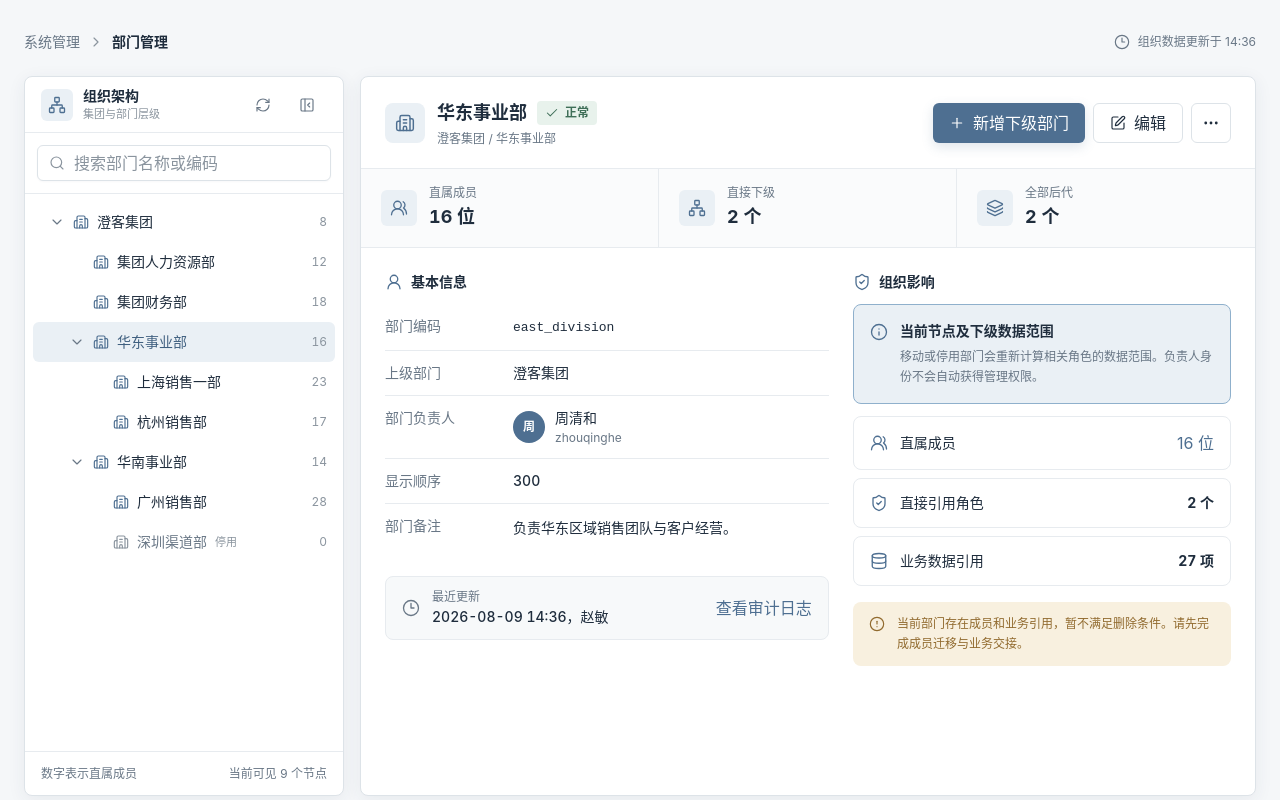
Test: DepartmentManagementPrototype › shows a server-style impact summary before moving a department
Click the button named "更多部门操作".
click(1211, 122)  # box [1191,102,1231,142]
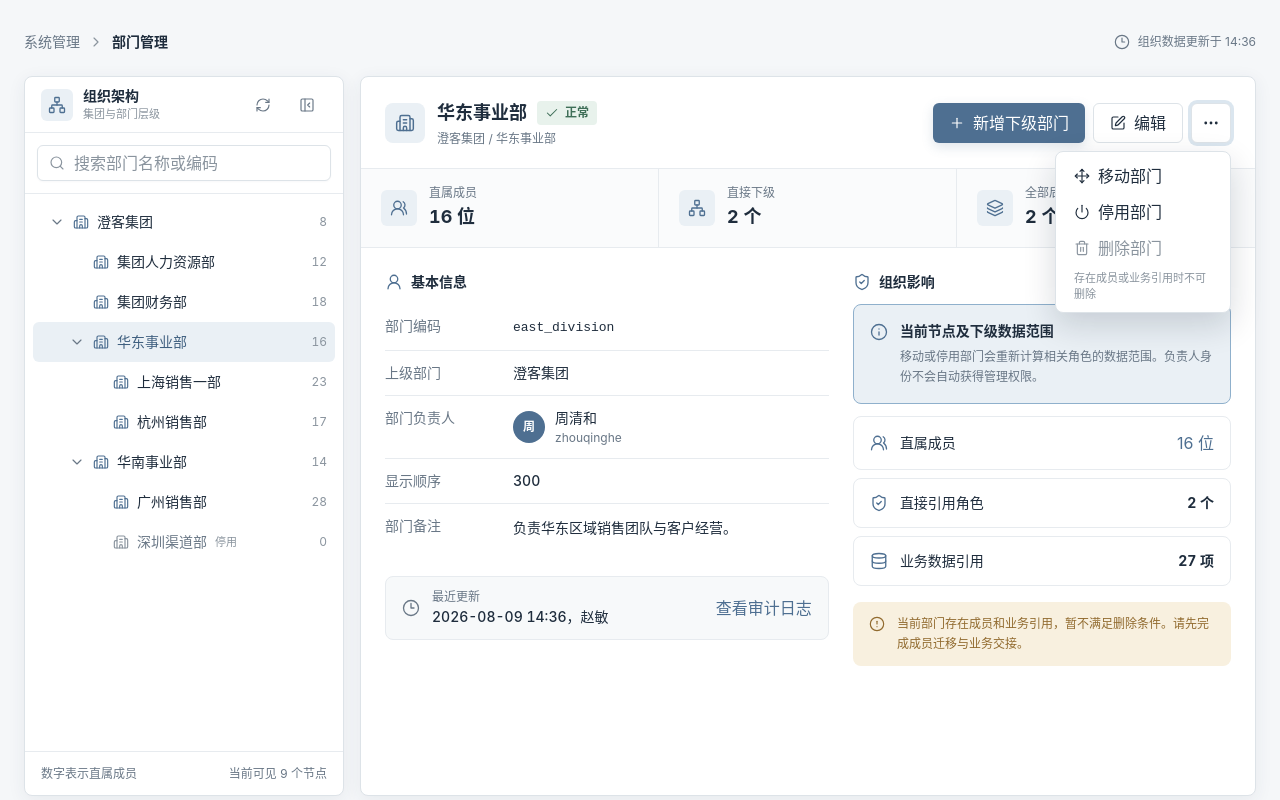
Click the menu item "移动部门".
click(1143, 176)  # box [1062,158,1224,194]
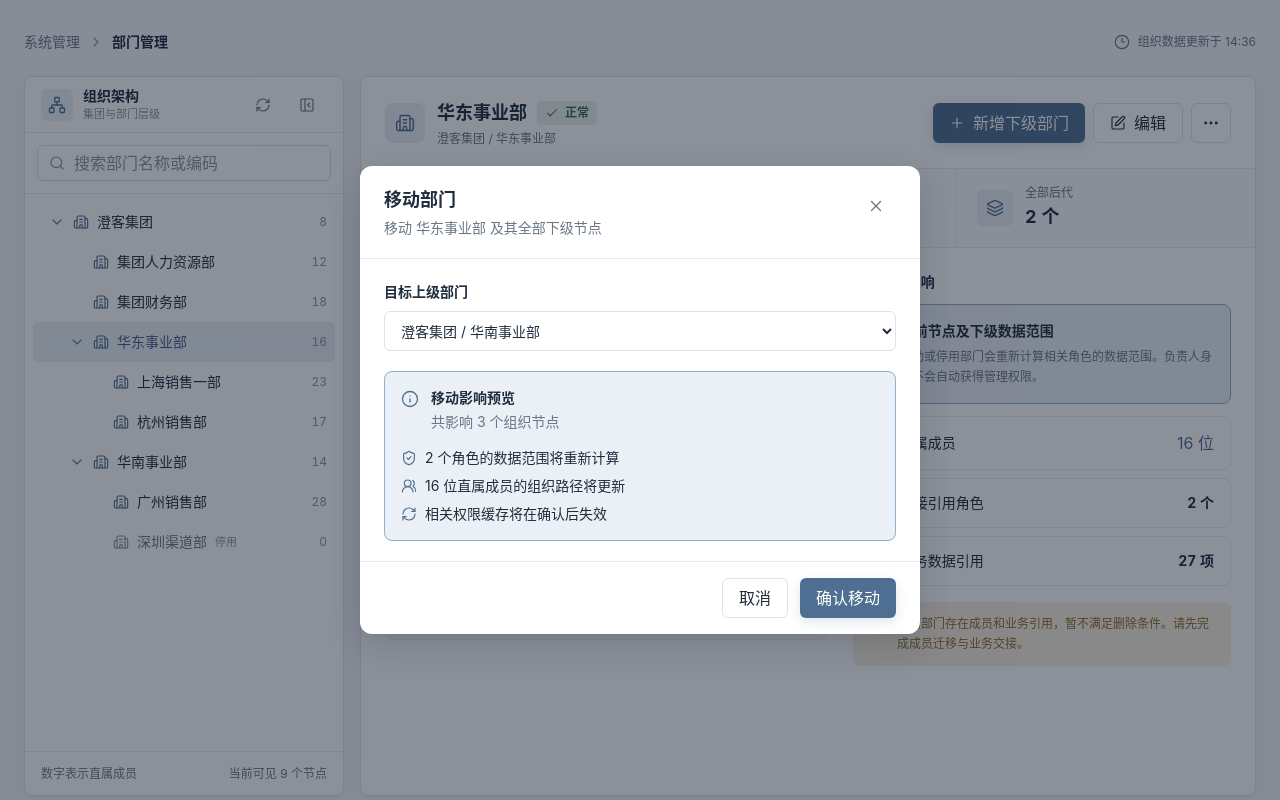
Expected: the dialog "移动部门" is shown, [360,166,920,634]
Expected: the text "2 个角色的数据范围将重新计算" is shown, [401,449,620,466]
Expected: the text "共影响 3 个组织节点" is shown, [431,412,560,432]
